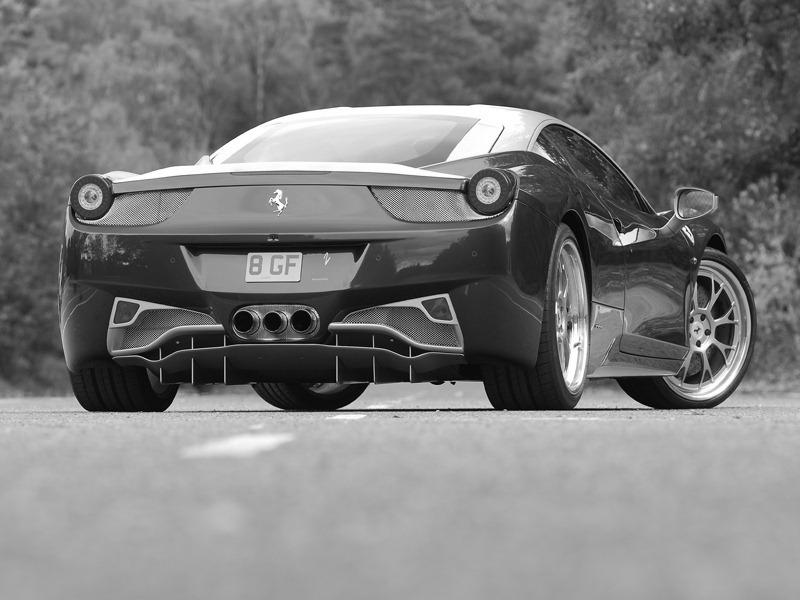car: (60, 102, 759, 418)
